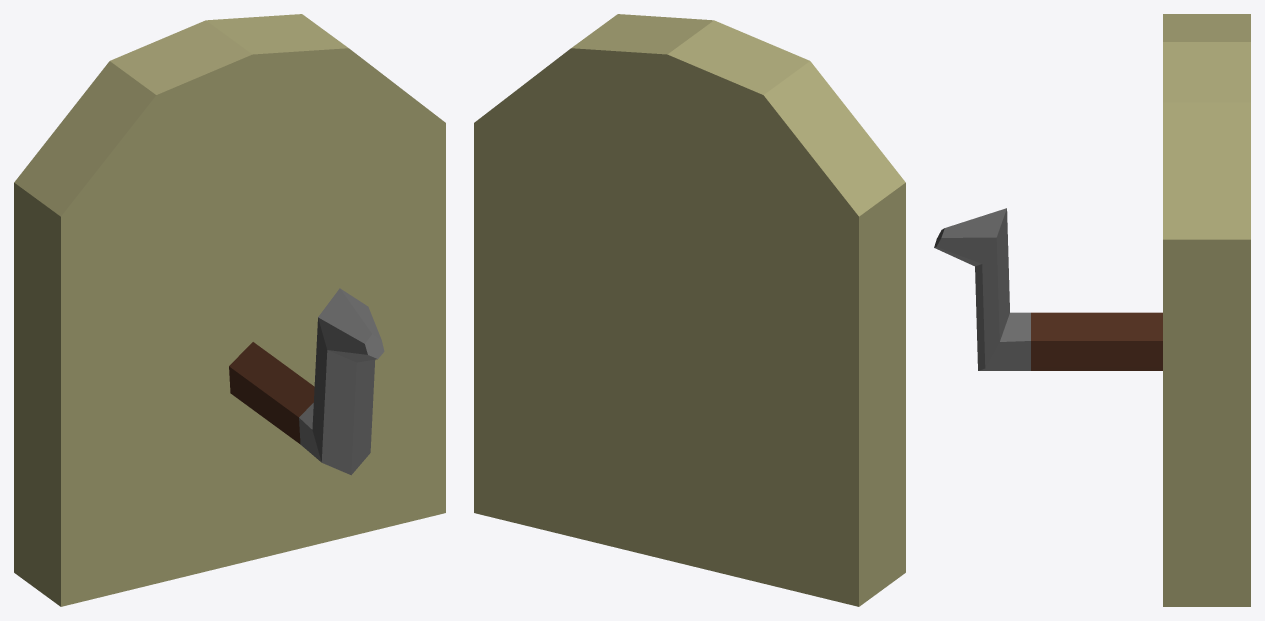
The model's file is Manivela.fbx.
The picture shows the model from 3 angles, left to right: view 1: azimuth 30°, elevation 25°; view 2: azimuth 150°, elevation 25°; view 3: azimuth 270°, elevation 25°; orthographic projection. The views are drawn at different scales.
Visible parts, largest first — view 1: Manivela; view 2: Manivela; view 3: Manivela.
Part boxes in pixels (box(x1,y1,x2,y2)): Manivela: box(14, 14, 445, 606); Manivela: box(474, 14, 905, 606); Manivela: box(934, 14, 1250, 606).
Size of the model in its own units: 67.46 by 89.09 by 112.
